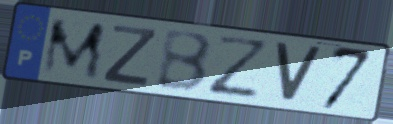7: (318, 43, 375, 113)
B: (155, 30, 215, 95)
M: (39, 17, 108, 81)
V: (272, 39, 326, 106)
Z: (205, 32, 273, 100), (100, 22, 161, 89)
